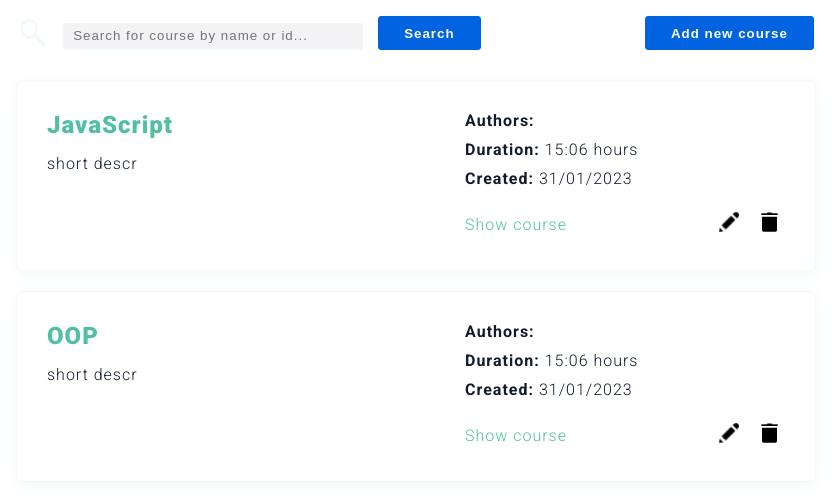
courses comp › should search courses after search button click
Type "java" into the field with placeholder "Search for course by name or id...".
click(213, 36); type("java")  # box [63,23,363,50]
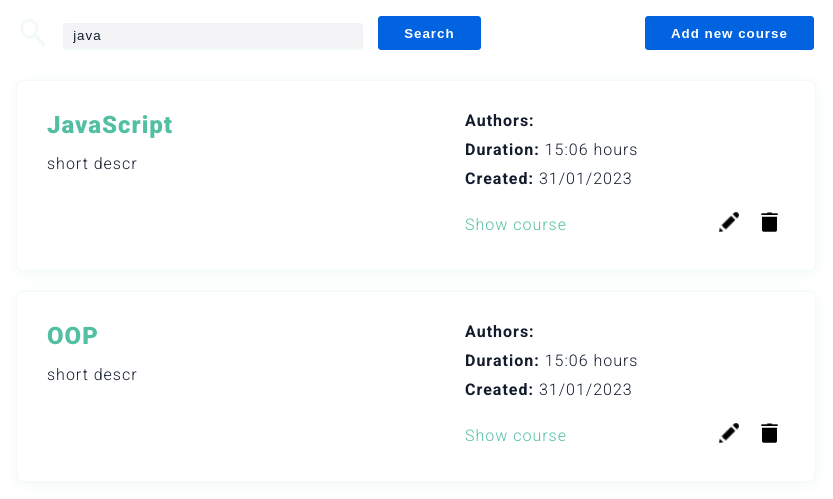
Click the button "Search".
click(429, 33)  # box [378,16,481,50]
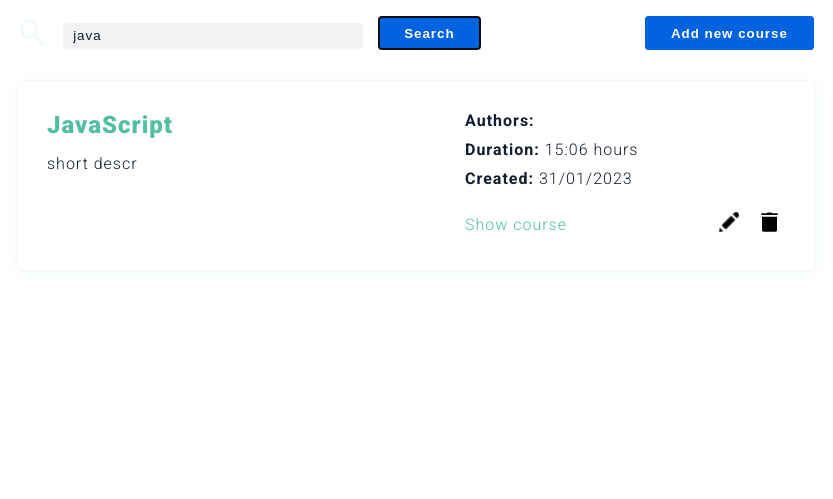
Check: the heading "JavaScript" is shown, box [47,111,173,139]
Check: the heading "OOP" is gone
